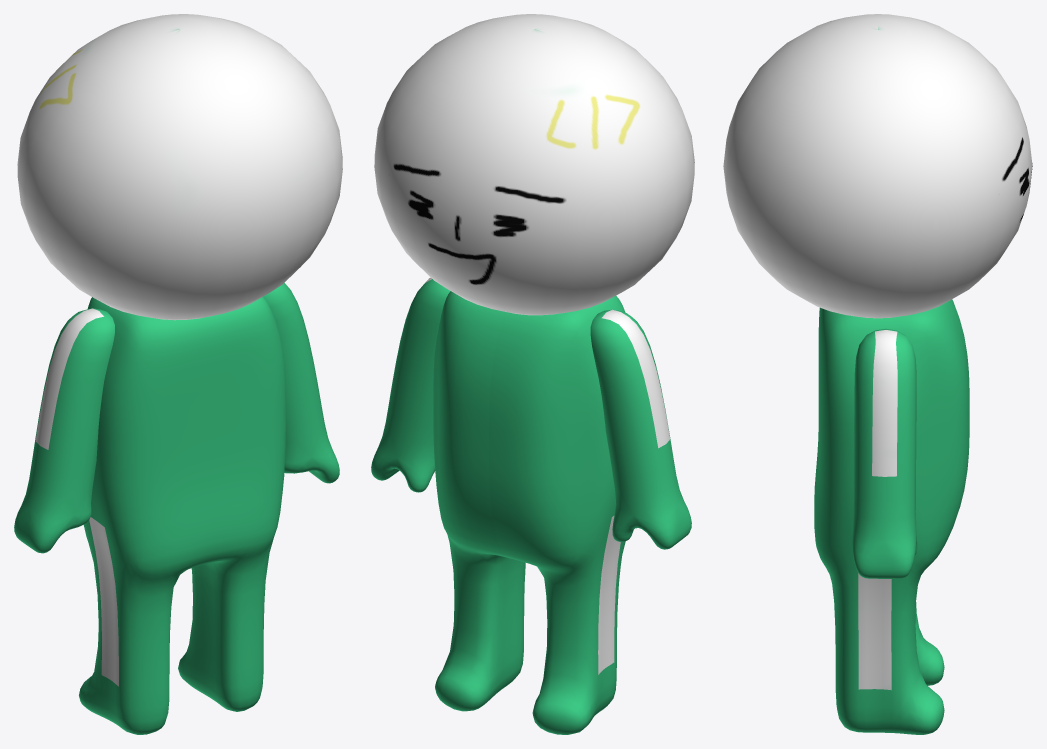
Rendered from ilbun.glb.
The picture shows the model from 3 angles, left to right: view 1: azimuth 30°, elevation 25°; view 2: azimuth 150°, elevation 25°; view 3: azimuth 270°, elevation 25°; orthographic projection.
Parts seen in each view (by area): view 1: Cube.001; view 2: Cube.001; view 3: Cube.001.
Part boxes in pixels (bbox=[...]): Cube.001: bbox=[14, 14, 342, 734]; Cube.001: bbox=[371, 14, 694, 734]; Cube.001: bbox=[723, 14, 1032, 734].
Size of the model in its own units: 0.675 by 1.45 by 0.5988.
Materials: 1 (1 with a texture image).
